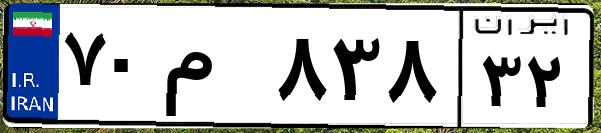0: (110, 28, 158, 98)
2: (525, 38, 570, 115)
3: (330, 28, 385, 110), (475, 38, 525, 113)
7: (57, 26, 110, 100)
8: (270, 28, 330, 110), (385, 28, 445, 110)
م: (158, 20, 270, 120)
